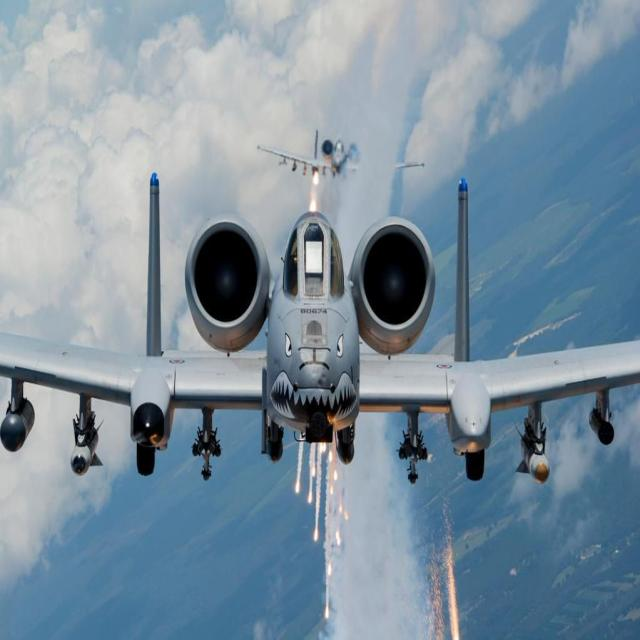MIL_Plane: (0, 171, 640, 485), (256, 128, 426, 179)
